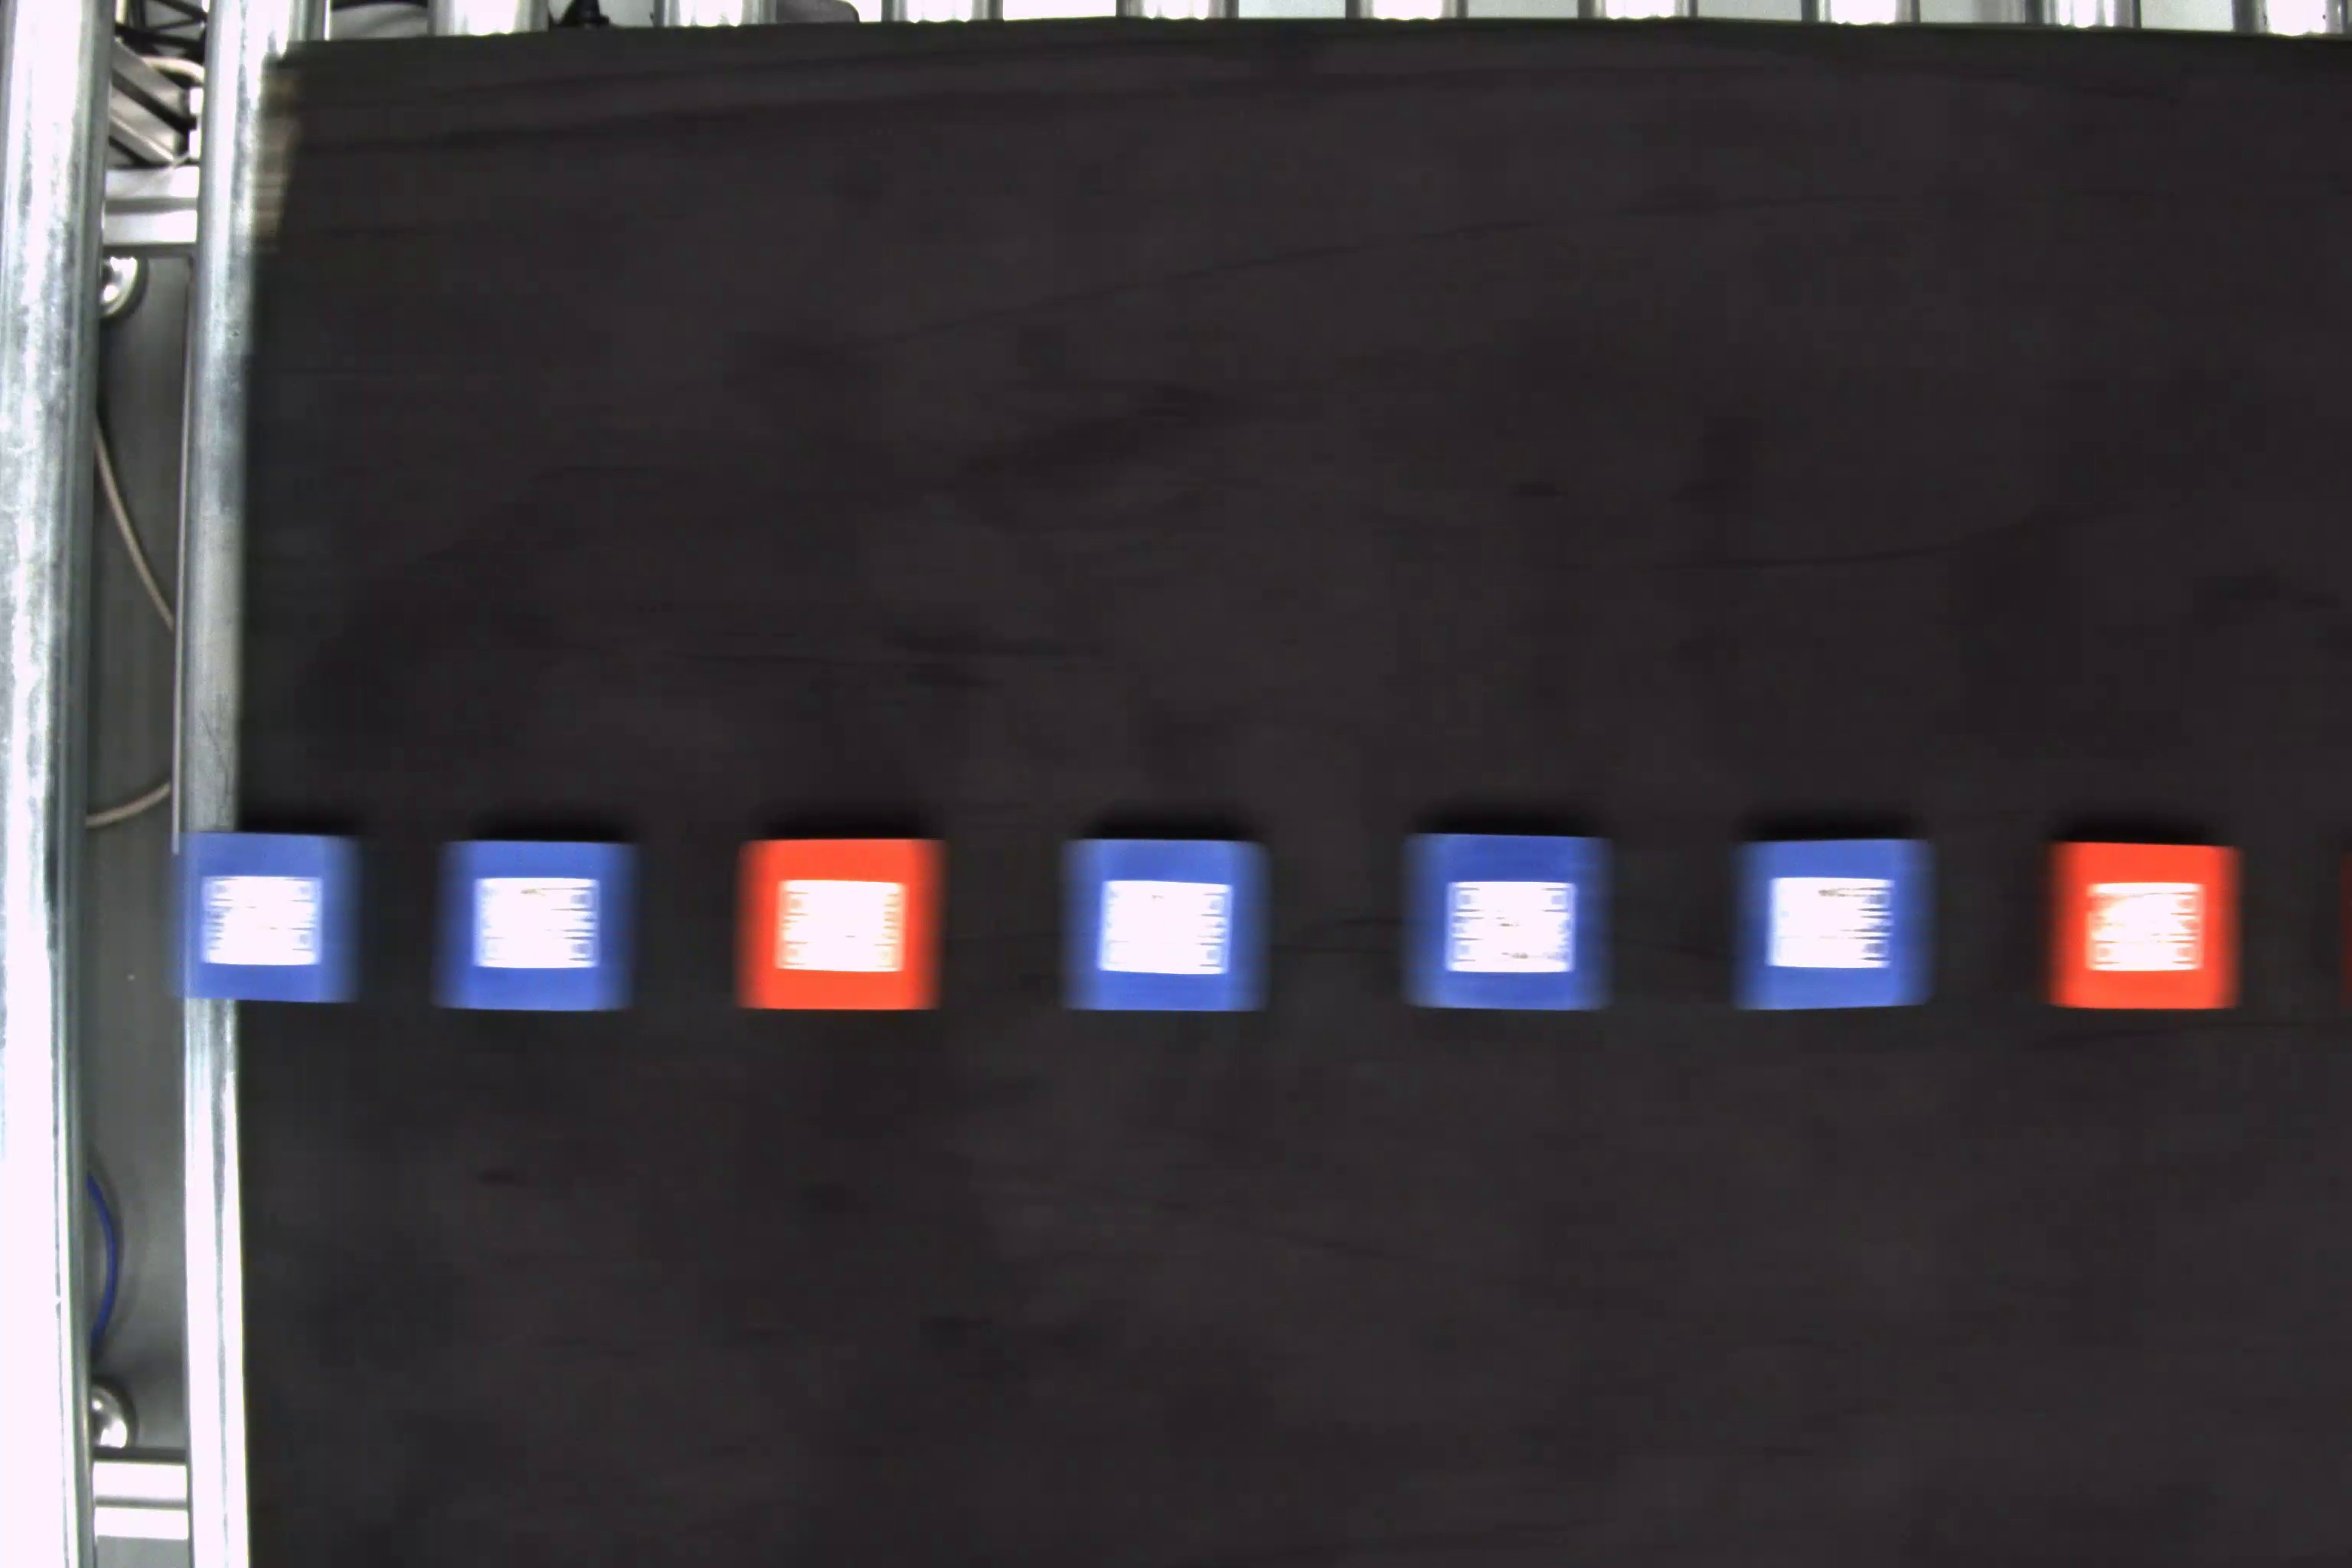wood: (1398, 831, 1613, 1015), (731, 836, 947, 1008), (1057, 835, 1263, 1011), (1732, 836, 1937, 1013), (441, 840, 644, 1015), (2044, 840, 2242, 1013), (182, 828, 359, 1003)
